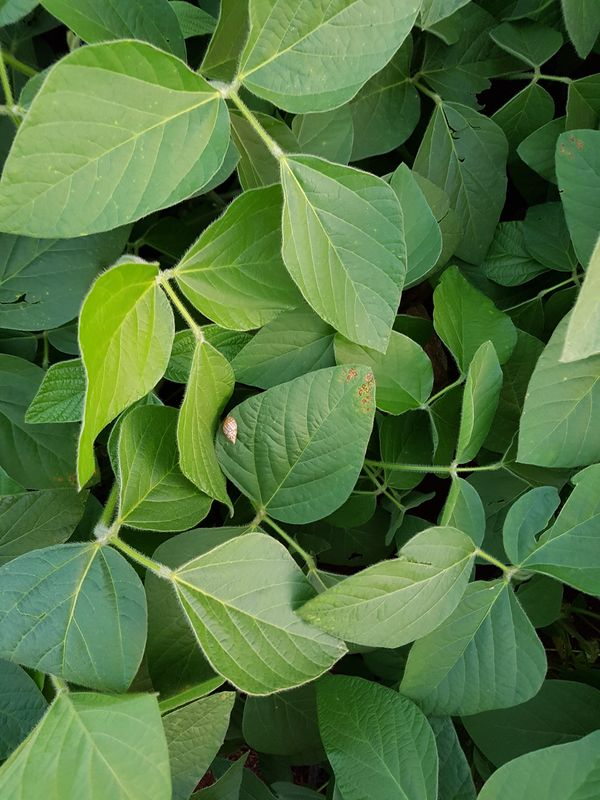Gastropoda: (210, 408, 249, 450)
